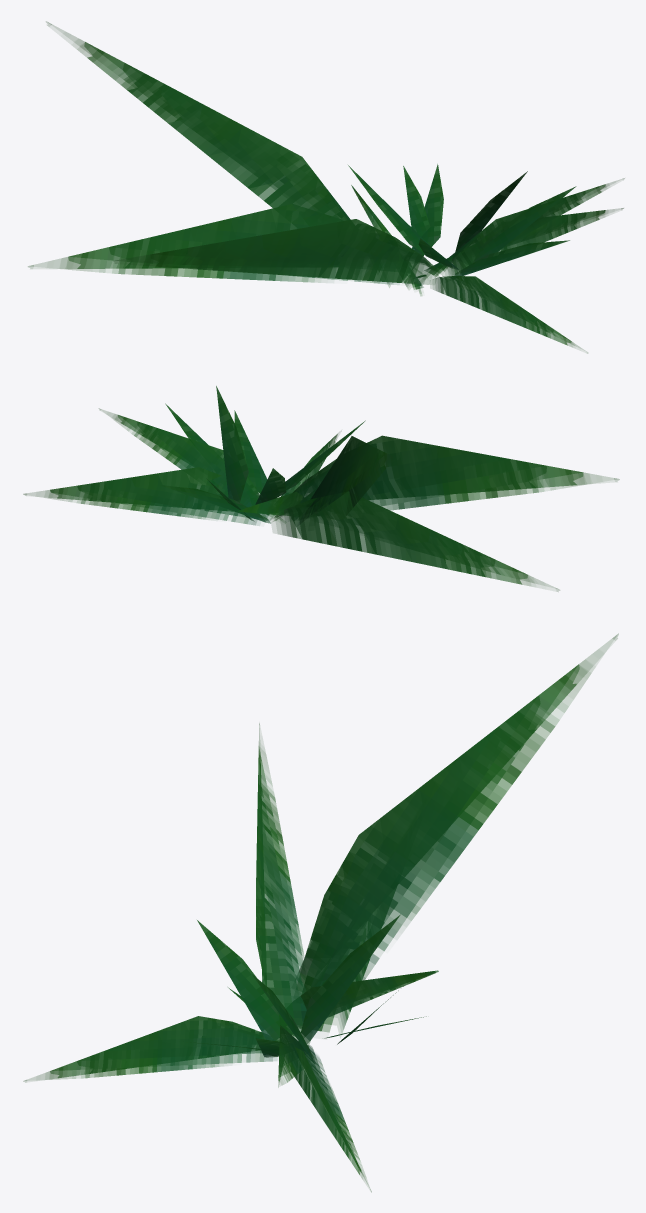
The model's file is fern-tall.lod2.glb.
3 views of the same model, one above another, from view 1: azimuth 30°, elevation 25°; view 2: azimuth 150°, elevation 25°; view 3: azimuth 270°, elevation 25° (orthographic). The views are drawn at different scales.
Parts seen in each view (by area): view 1: SM_Fern_02_Ferns_0; view 2: SM_Fern_02_Ferns_0; view 3: SM_Fern_02_Ferns_0.
Boxes of the visible parts, x1,y1,x2,y2 form: SM_Fern_02_Ferns_0: (28,21,624,353); SM_Fern_02_Ferns_0: (23,386,619,591); SM_Fern_02_Ferns_0: (23,633,618,1192).
Bounding box in the file's own units: 2.56 × 0.9788 × 1.92.
1 material, 1 textured.
